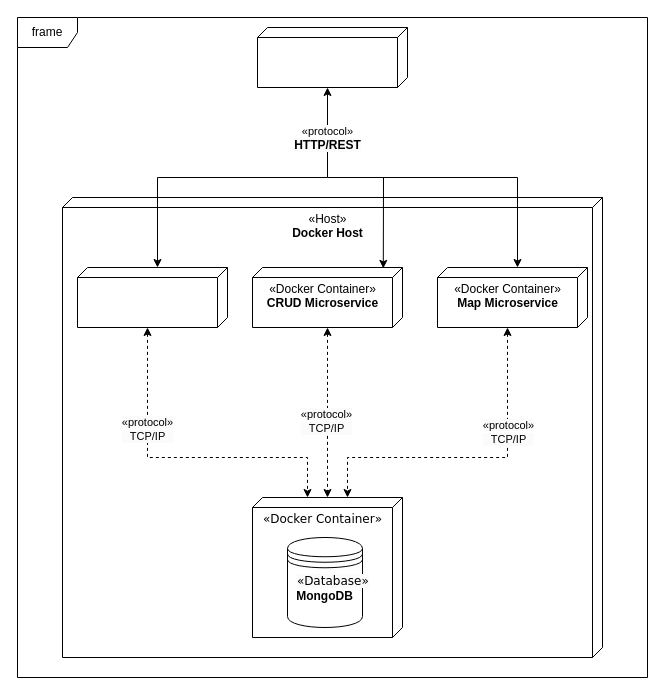
Image size: 665x695. Some labels were removed from this diagram. The shapes that lost their labels are listed below. From the top down, each one's centre as x and y in pixels, then its label:
At [332,57]: "«Local Web Browser» Client Frontend App".
At [152,297]: "«Docker Container» Authentication Microservice".
